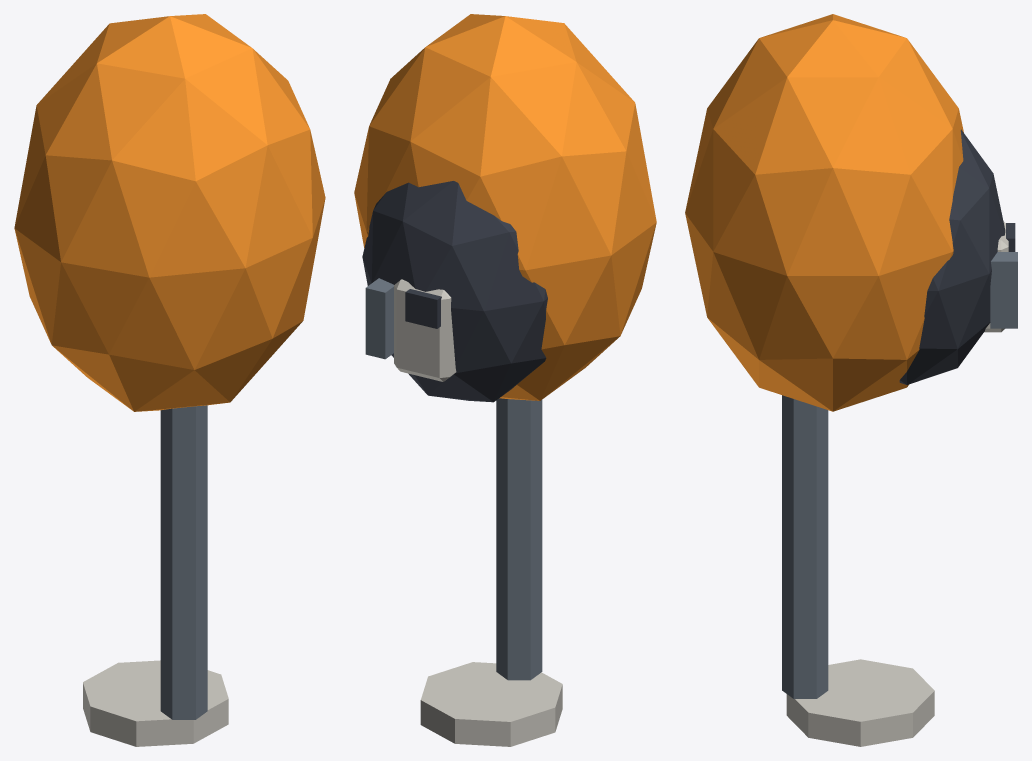
File: orelhao.glb
The picture shows the model from 3 angles, left to right: view 1: azimuth 30°, elevation 25°; view 2: azimuth 150°, elevation 25°; view 3: azimuth 270°, elevation 25°; orthographic projection. The views are drawn at different scales.
Parts seen in each view (by area): view 1: corpo; view 2: corpo; view 3: corpo.
Part boxes in pixels (x1=…): corpo: x1=14, y1=14, x2=325, y2=746; corpo: x1=354, y1=14, x2=656, y2=746; corpo: x1=685, y1=14, x2=1017, y2=746.
Size of the model in its own units: 0.3234 by 0.83 by 0.36.
